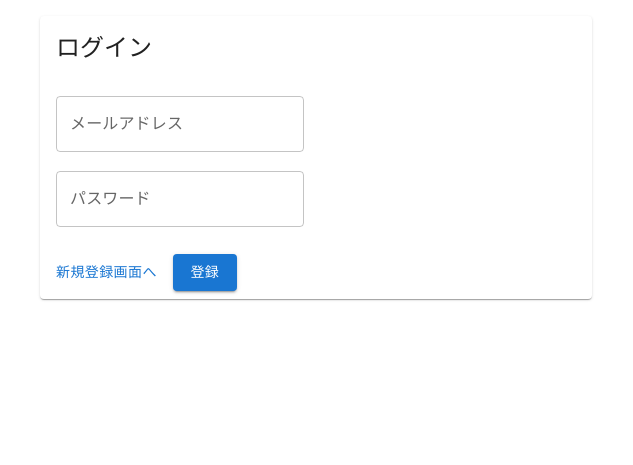
Test: TalkRoomListItem › 画面切り替えが可能
Expected: the element with test id "Login" is shown, [16,16,616,298]
Click the button with test id "loginToNewUser". click: (106, 272)
box: [48,254,165,290]
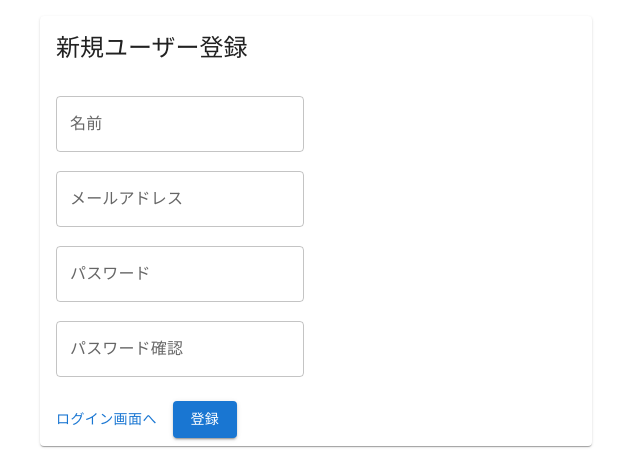
Result: the element with test id "NewUser" is shown
Click the button with test id "NewUserToLogin". click: (106, 419)
box: [48,401,165,438]
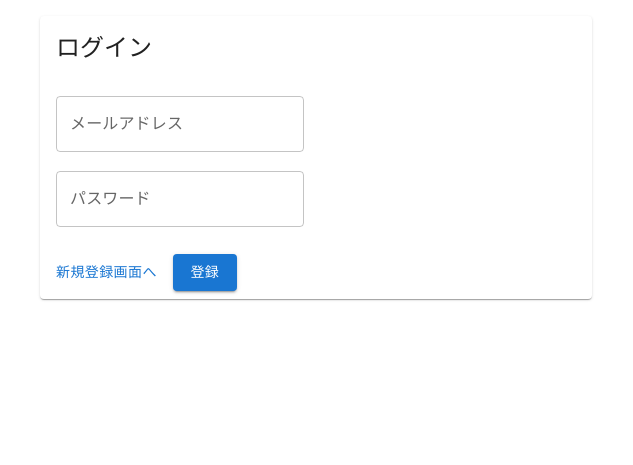
Result: the element with test id "Login" is shown at [16,16,616,298]
